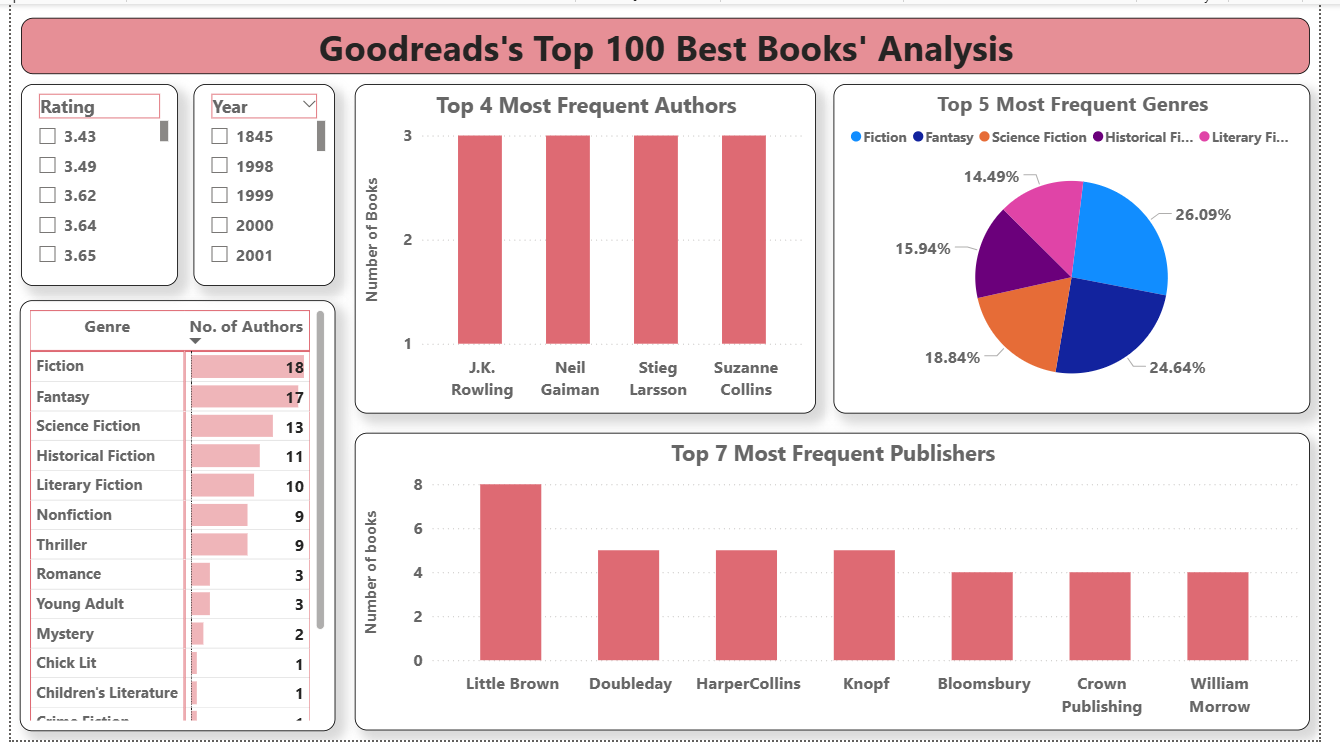

The dashboard page shown, as its layout file describes it:
{"tool":"powerbi","page":{"name":"Goodreads","canvas":[1280,720],"ordinal":4},"visuals":[{"type":"columnChart","title":"Top 4 Most Frequent Authors","fields":{"Category":["goodreads_100_mustreads.Author"],"Y":["CountNonNull(goodreads_100_mustreads.Title)"]},"box":[336.2,78.2,451.5,322.5],"z":0},{"type":"pieChart","title":"Top 5 Most Frequent Genres","fields":{"Category":["goodreads_100_mustreads.Genre"],"Y":["CountNonNull(goodreads_100_mustreads.Title)"]},"box":[804.1,78.2,466.6,322.5],"z":1000},{"type":"columnChart","title":"Top 7 Most Frequent Publishers","fields":{"Y":["CountNonNull(goodreads_100_mustreads.Title)"],"Category":["goodreads_100_mustreads.Publisher"]},"box":[336.2,419.9,934.5,290.9],"z":2000},{"type":"pivotTable","fields":{"Rows":["goodreads_100_mustreads.Genre"],"Values":["CountNonNull(goodreads_100_mustreads.Author)"]},"box":[8.2,289.5,308.7,421.3],"z":3000},{"type":"slicer","fields":{"Values":["goodreads_100_mustreads.Rating"]},"box":[9.6,78.2,153.7,197.6],"z":4000},{"type":"slicer","fields":{"Values":["nyt_100_mustreads.Year"]},"box":[178.4,78.2,138.6,197.6],"z":5000},{"type":"textbox","title":"Goodreads''s Top 100 Best Books'' Analysis","box":[9.6,13.7,1261.1,54.9],"z":6000}]}

Visuals, with their boxes in screenshot pixels (x1, y1, x2, y2), scaled from the page's 1280x720 canvas onto the 1340x749 screenshot:
"Top 4 Most Frequent Authors" columnChart: 352 81 825 417
"Top 5 Most Frequent Genres" pieChart: 842 81 1330 417
"Top 7 Most Frequent Publishers" columnChart: 352 437 1330 739
pivotTable - goodreads_100_mustreads.Genre x CountNonNull(goodreads_100_mustreads.Author): 9 301 332 739
slicer - goodreads_100_mustreads.Rating: 10 81 171 287
slicer - nyt_100_mustreads.Year: 187 81 332 287
"Goodreads''s Top 100 Best Books'' Analysis" textbox: 10 14 1330 71
